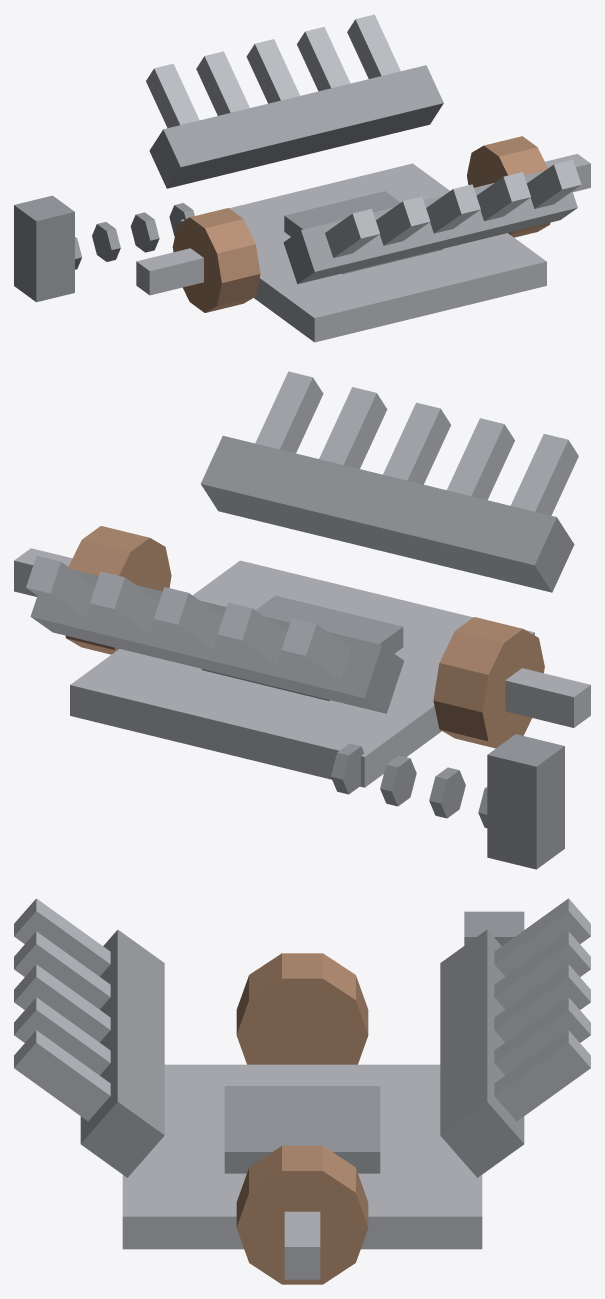
Rendered from bear_trap.glb.
3 views of the same model, one above another, from view 1: azimuth 30°, elevation 25°; view 2: azimuth 150°, elevation 25°; view 3: azimuth 270°, elevation 25° (orthographic). The views are drawn at different scales.
Visible parts, largest first — view 1: bear_trap; view 2: bear_trap; view 3: bear_trap.
Part boxes in pixels (bbox=[...]): bear_trap: bbox=[14, 14, 590, 342]; bear_trap: bbox=[14, 371, 590, 869]; bear_trap: bbox=[14, 898, 590, 1284].
Size of the model in its own units: 0.63 by 0.2066 by 0.4813.
